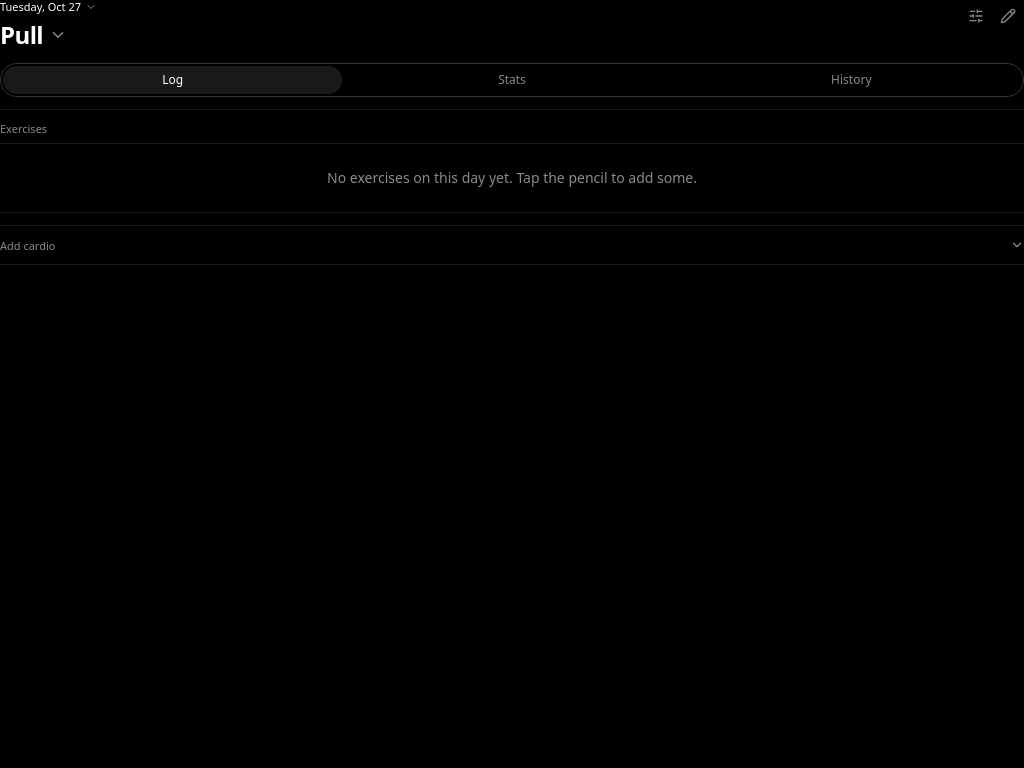
GymPage sub-tabs and hand-off › Edit in Log jumps to the session's day AND date, then shows Log
The width and height of the screenshot is (1024, 768).
Click the button "History" at x=851, y=80, box [682,66,1021,94]
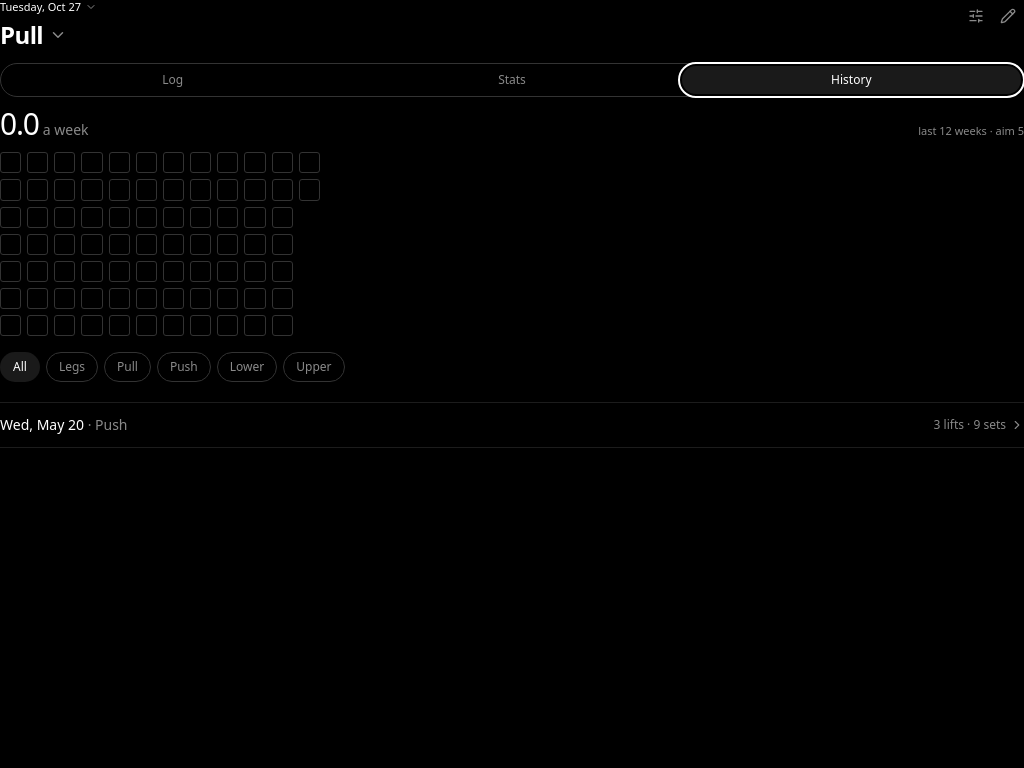
Click the text "Wed, May 20" at x=42, y=425, box [0,415,84,434]
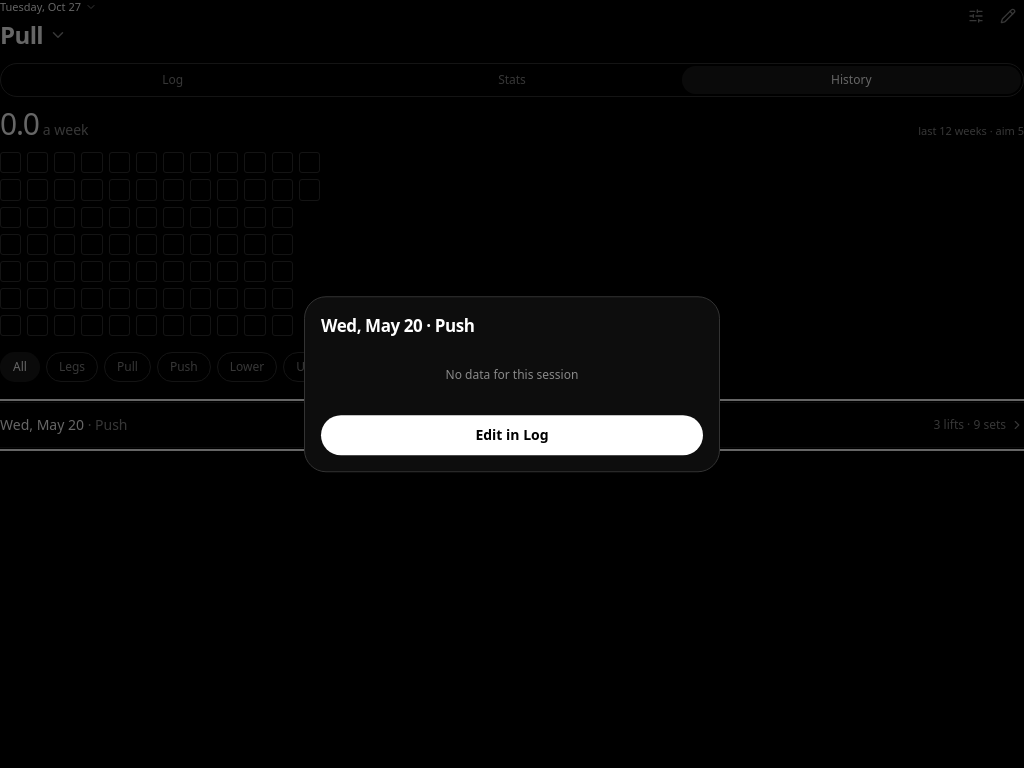
Click the button "Edit in Log" at x=512, y=435, box [321,415,703,455]
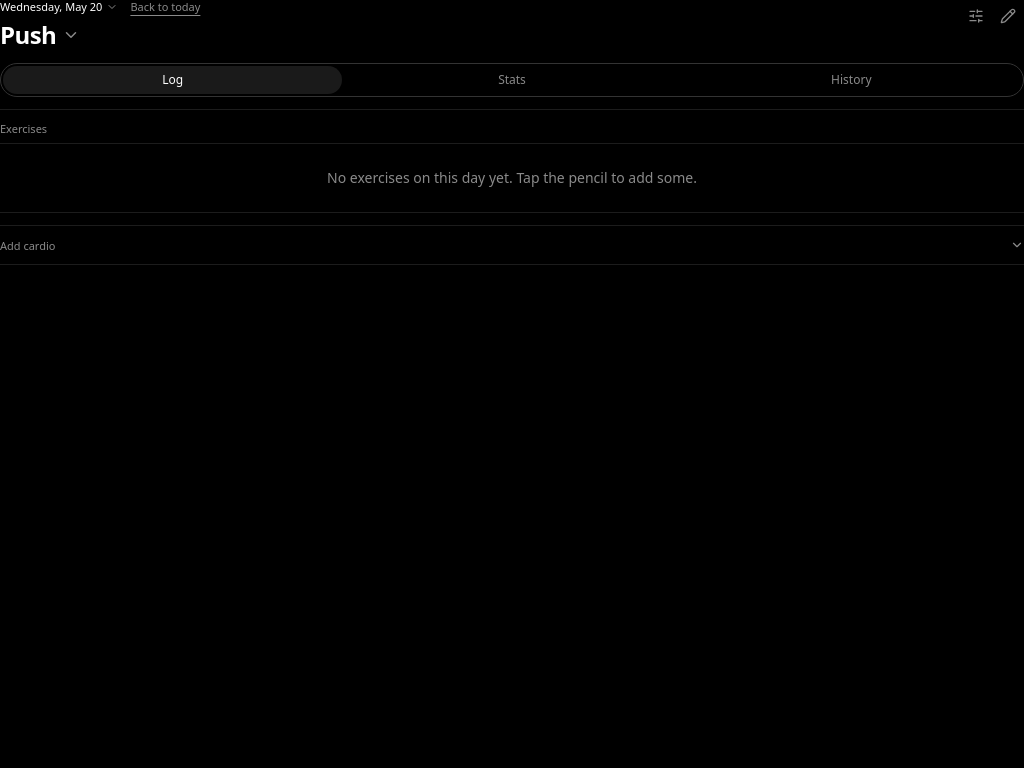
Expected: the heading reads "Push", [0,19,80,51]
